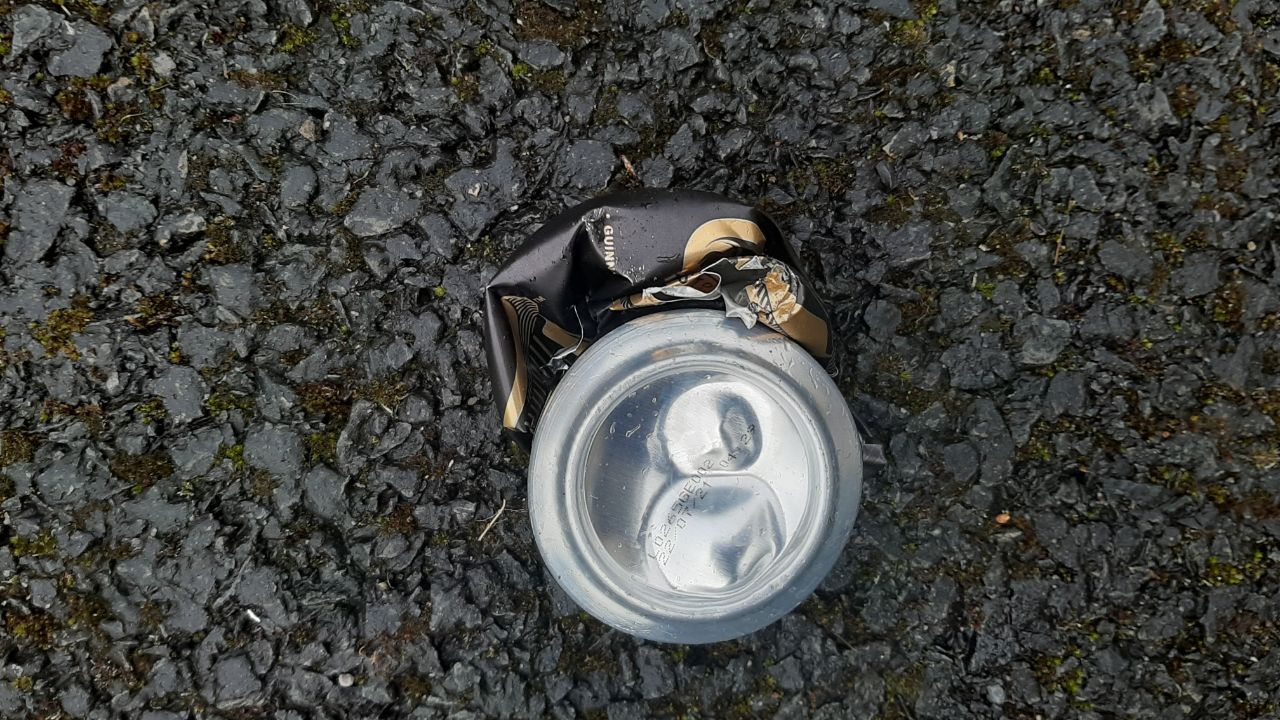Can: (482, 189, 863, 644)
